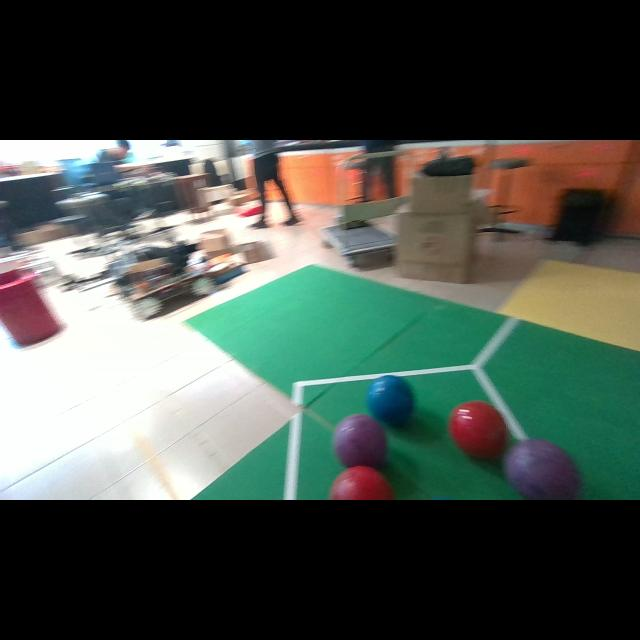B: (366, 375, 412, 425)
P: (504, 439, 580, 500), (332, 414, 386, 468)
R: (448, 401, 508, 459), (329, 466, 394, 500)
